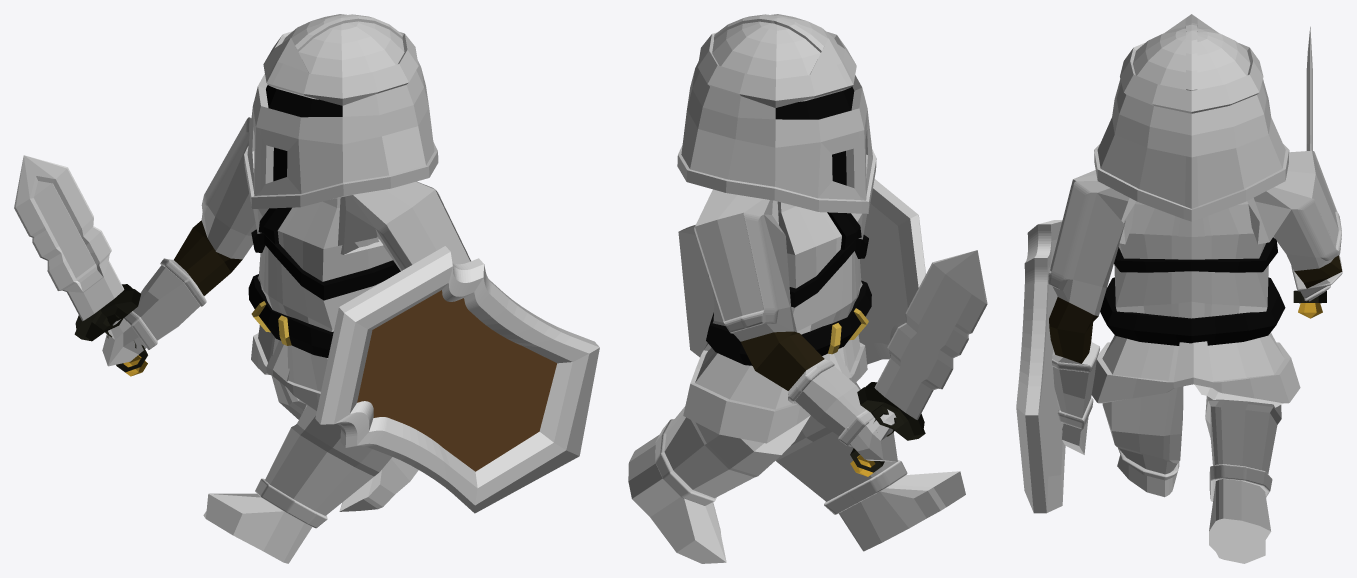
Rendered from knight.glb.
3 views of the same model, side by side, from view 1: azimuth 30°, elevation 25°; view 2: azimuth 150°, elevation 25°; view 3: azimuth 270°, elevation 25° (orthographic). The views are drawn at different scales.
Parts seen in each view (by area): view 1: character; view 2: character; view 3: character.
Part boxes in pixels (bbox=[...]): character: bbox=[14, 14, 599, 563]; character: bbox=[628, 14, 987, 563]; character: bbox=[1016, 14, 1342, 563].
Bounding box in the file's own units: 3.21 × 3.65 × 2.11.
